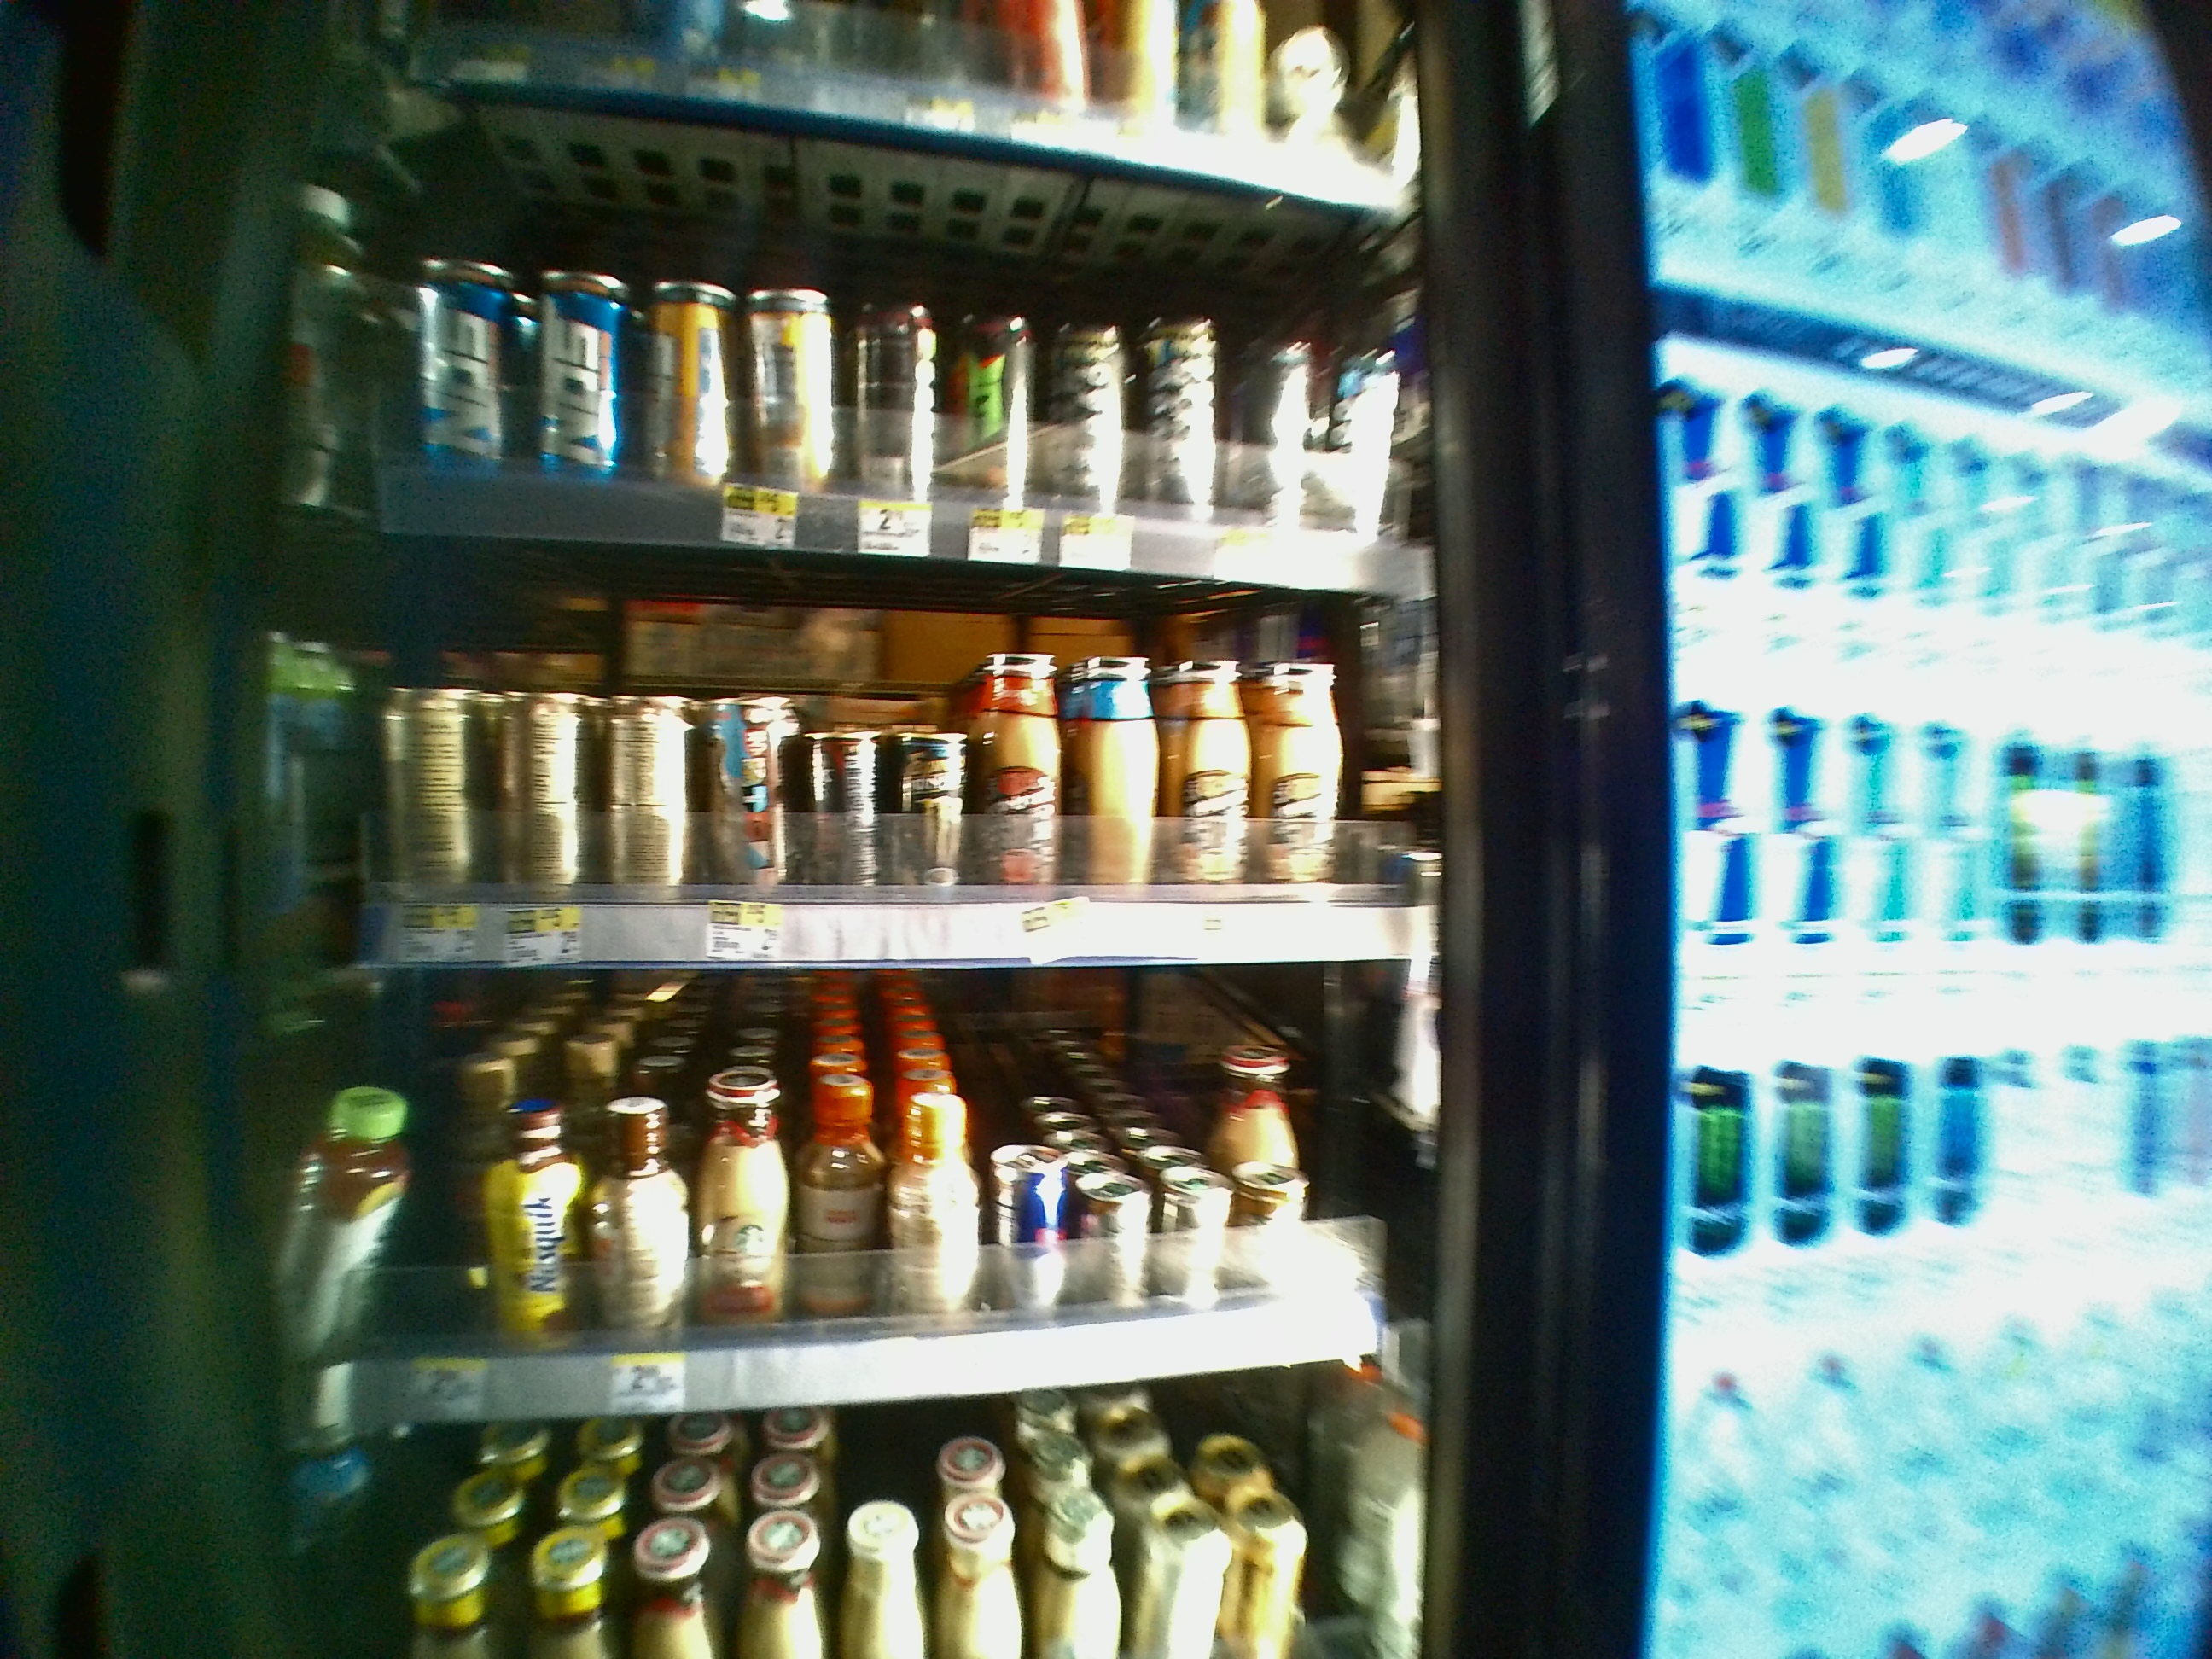shelf: (263, 972, 1468, 1415), (261, 538, 1453, 971)
